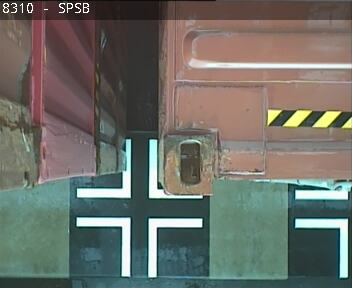groundmarker_1: (75, 139, 203, 199), (74, 217, 201, 277)
